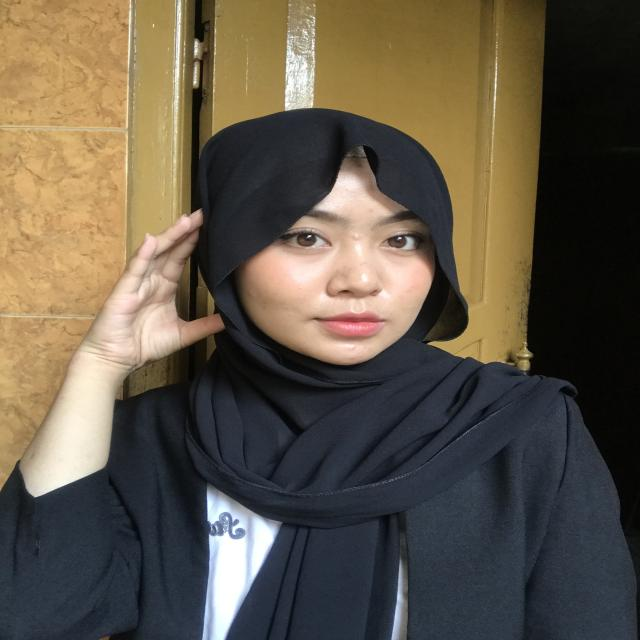mendengar: (94, 201, 240, 388)
